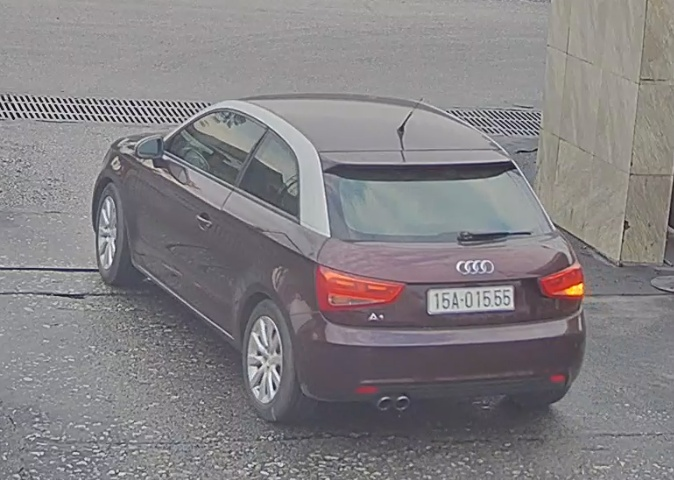vehicle plate: (423, 283, 522, 316)
